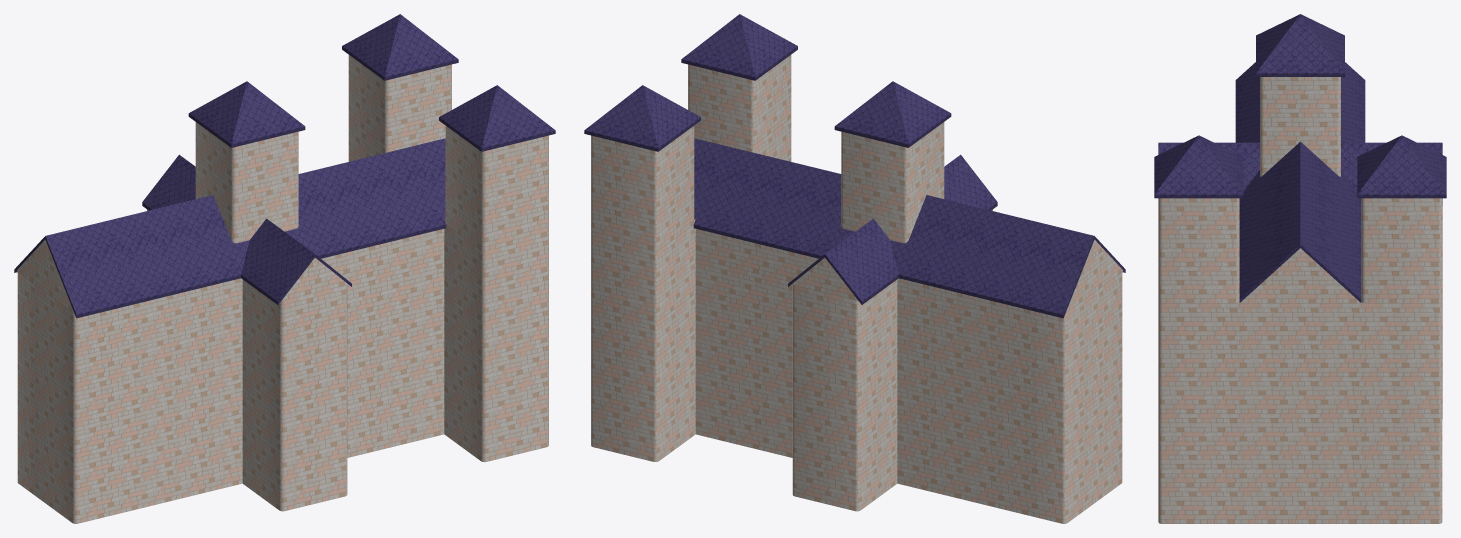
File: Cathedral.fbx
3 views of the same model, side by side, from view 1: azimuth 30°, elevation 25°; view 2: azimuth 150°, elevation 25°; view 3: azimuth 270°, elevation 25° (orthographic). The views are drawn at different scales.
Parts seen in each view (by area): view 1: Cathedral; view 2: Cathedral; view 3: Cathedral.
Part boxes in pixels (x1=…): Cathedral: x1=14, y1=14, x2=555, y2=523; Cathedral: x1=584, y1=14, x2=1125, y2=523; Cathedral: x1=1154, y1=14, x2=1446, y2=523.
Bounding box in the file's own units: 5240 × 4240 × 2880.
